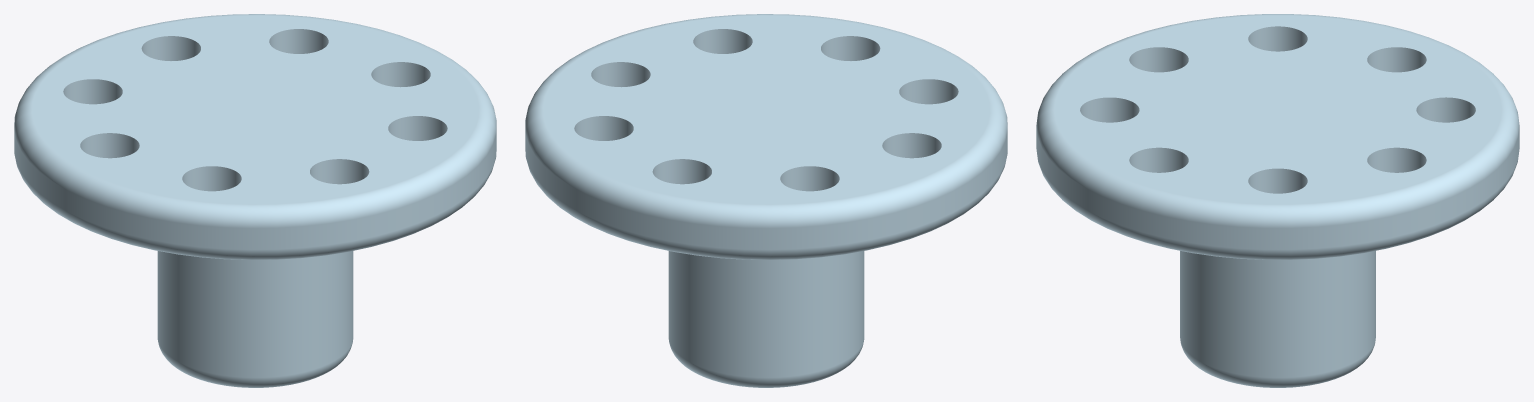
The picture shows the model from 3 angles, left to right: view 1: azimuth 30°, elevation 25°; view 2: azimuth 150°, elevation 25°; view 3: azimuth 270°, elevation 25°; orthographic projection.
Visible parts, largest first — view 1: mesh233, mesh222, mesh234, mesh235, mesh236, mesh221, mesh228, mesh230, mesh226, mesh229, mesh231, mesh232 (+2 smaller); view 2: mesh233, mesh222, mesh234, mesh235, mesh236, mesh221, mesh230, mesh228, mesh229, mesh226, mesh231, mesh232 (+2 smaller); view 3: mesh233, mesh222, mesh234, mesh235, mesh236, mesh221, mesh226, mesh228, mesh230, mesh227, mesh229, mesh231 (+3 smaller).
Part boxes in pixels (<box>): mesh233: <box>32,15,478,204</box>; mesh222: <box>157,251,353,377</box>; mesh234: <box>14,14,496,228</box>; mesh235: <box>14,130,496,249</box>; mesh236: <box>14,153,496,259</box>; mesh221: <box>157,339,352,387</box>; mesh228: <box>182,166,241,191</box>; mesh230: <box>63,79,122,104</box>; mesh226: <box>310,159,369,184</box>; mesh229: <box>80,133,139,158</box>; mesh231: <box>269,29,328,53</box>; mesh232: <box>388,116,447,140</box>; mesh233: <box>543,15,989,204</box>; mesh222: <box>668,251,864,377</box>; mesh234: <box>525,14,1007,228</box>; mesh235: <box>525,130,1007,249</box>; mesh236: <box>525,153,1007,259</box>; mesh221: <box>669,339,864,387</box>; mesh230: <box>780,166,839,191</box>; mesh228: <box>899,79,958,104</box>; mesh229: <box>882,133,941,158</box>; mesh226: <box>821,36,880,60</box>; mesh231: <box>574,116,633,140</box>; mesh232: <box>693,29,752,53</box>; mesh233: <box>1054,15,1501,204</box>; mesh222: <box>1180,251,1375,377</box>; mesh234: <box>1036,14,1519,228</box>; mesh235: <box>1036,127,1519,249</box>; mesh236: <box>1036,148,1519,259</box>; mesh221: <box>1180,340,1375,387</box>; mesh226: <box>1080,97,1139,122</box>; mesh228: <box>1129,47,1188,72</box>; mesh230: <box>1367,47,1426,72</box>; mesh227: <box>1248,168,1307,193</box>; mesh229: <box>1248,26,1307,51</box>; mesh231: <box>1367,147,1426,172</box>.
Bounding box in the file's own units: 0.0325 × 0.018 × 0.0325.
